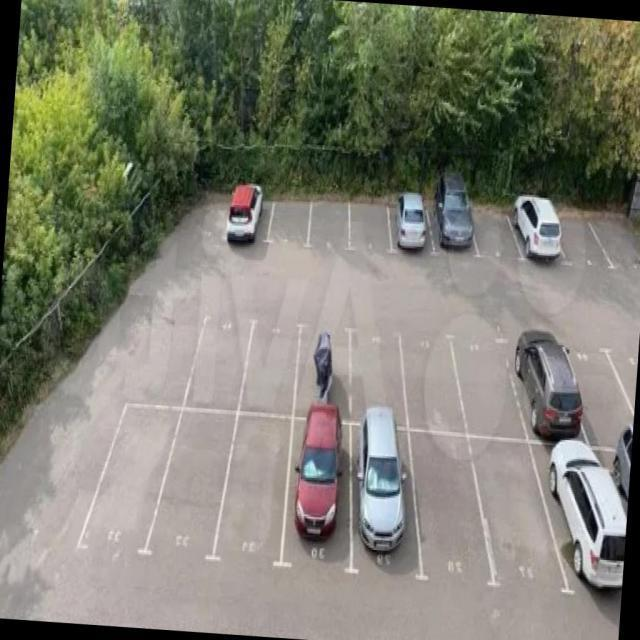car: (528, 440, 631, 609), (343, 418, 423, 590), (283, 417, 361, 577), (507, 326, 585, 446), (292, 324, 356, 420), (515, 189, 569, 280), (423, 192, 483, 273), (226, 186, 276, 257), (389, 193, 432, 266)
free: (468, 437, 566, 611), (402, 426, 498, 590), (92, 399, 182, 548), (224, 410, 297, 578), (170, 407, 232, 568), (455, 322, 530, 440), (568, 336, 640, 445), (346, 317, 411, 427), (402, 326, 467, 431), (196, 304, 252, 408), (242, 317, 300, 411), (466, 195, 532, 273), (588, 192, 640, 288), (558, 197, 613, 285), (346, 197, 394, 270), (310, 194, 354, 258), (272, 196, 316, 252)
